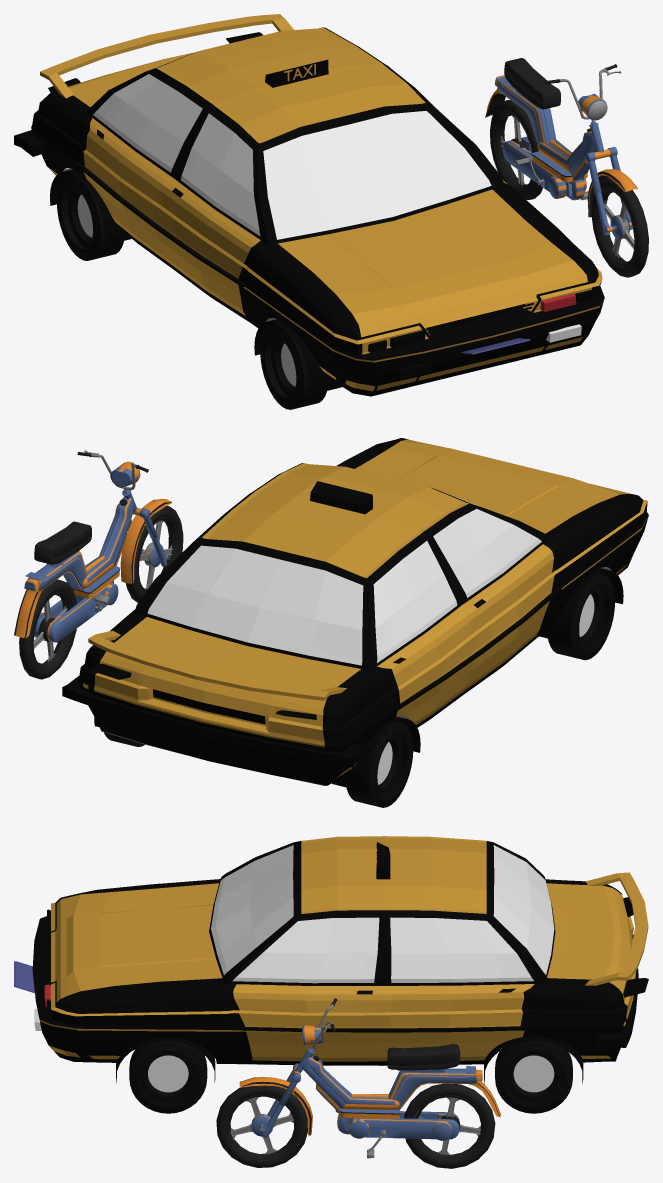
File: taxisn.glb
3 views of the same model, one above another, from view 1: azimuth 30°, elevation 25°; view 2: azimuth 150°, elevation 25°; view 3: azimuth 270°, elevation 25° (orthographic). The views are drawn at different scales.
Parts seen in each view (by area): view 1: Cube, Piaggio SI, Cylinder.006, Cylinder.007, Piaggio SI.001, Cube.017, Piaggio SI.002, Cylinder, Cube.004, Cylinder.002, Cube.002; view 2: Cube, Piaggio SI, Cube.001, Cylinder.007, Cylinder.006, Cube.017, Piaggio SI.002, Piaggio SI.001, Cube.002, Cylinder, Cylinder.002, Cube.004; view 3: Cube, Piaggio SI, Cylinder.004, Cylinder.005, Piaggio SI.001, Piaggio SI.002, Cube.017, Cube.003, Cube.001, Cylinder.003, Cylinder.001, Cube.005 (+1 smaller).
Part boxes in pixels (box(x1,y1,x2,y2)): Cube: box(31, 27, 604, 396); Piaggio SI: box(485, 58, 637, 239); Cylinder.006: box(260, 323, 326, 409); Cylinder.007: box(57, 174, 123, 260); Piaggio SI.001: box(591, 177, 648, 277); Cube.017: box(40, 14, 293, 98); Piaggio SI.002: box(490, 100, 542, 199); Cylinder: box(254, 319, 342, 395); Cube.004: box(75, 162, 245, 287); Cylinder.002: box(50, 169, 131, 245); Cube.002: box(265, 59, 328, 87); Cube: box(78, 438, 648, 785); Piaggio SI: box(14, 450, 171, 642); Cube.001: box(62, 676, 368, 767); Cylinder.007: box(346, 721, 413, 807); Cylinder.006: box(548, 574, 614, 660); Cube.017: box(88, 630, 346, 700); Piaggio SI.002: box(19, 579, 77, 679); Piaggio SI.001: box(126, 505, 183, 602); Cube.002: box(310, 481, 372, 514); Cylinder: box(539, 568, 623, 643); Cylinder.002: box(332, 717, 420, 791); Cube.004: box(393, 587, 561, 711); Cube: box(32, 836, 636, 1065); Piaggio SI: box(239, 998, 501, 1158); Cylinder.004: box(129, 1041, 207, 1113); Cylinder.005: box(495, 1041, 572, 1113); Piaggio SI.001: box(216, 1085, 307, 1167); Piaggio SI.002: box(404, 1083, 495, 1168); Cube.017: box(585, 872, 648, 985); Cube.003: box(232, 1026, 532, 1032); Cube.001: box(595, 934, 638, 1047); Cylinder.003: box(484, 1036, 583, 1084); Cylinder.001: box(116, 1037, 215, 1083); Cube.005: box(14, 961, 34, 992).
Size of the model in its own units: 3.93 by 1.9 by 5.46.
